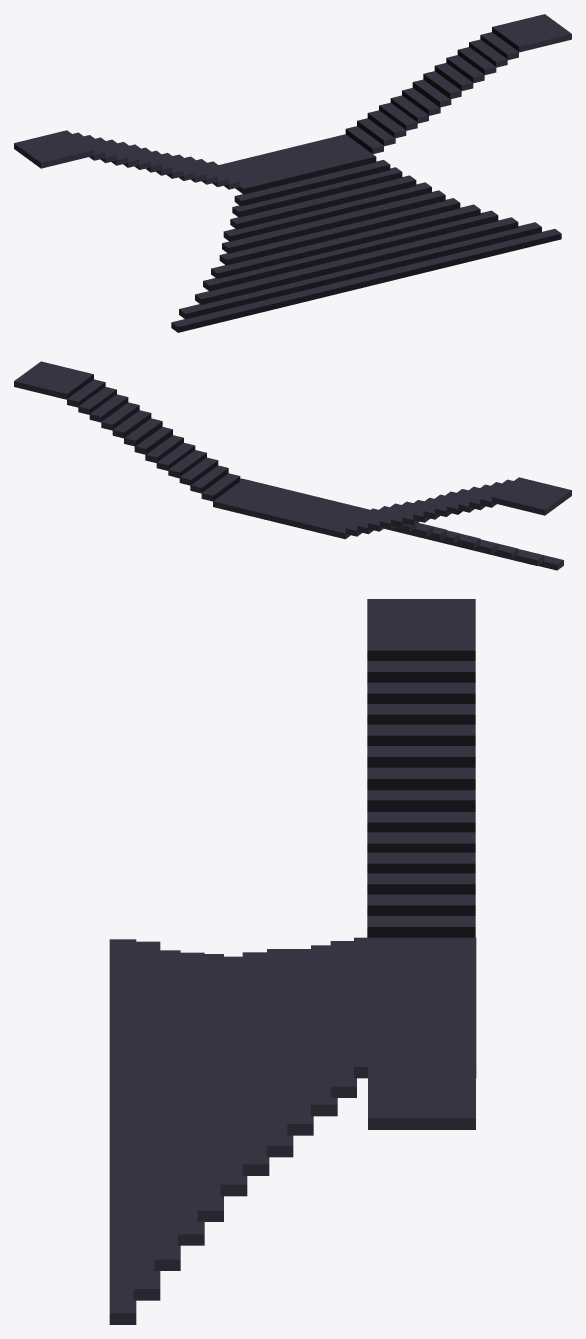
The model's file is Ballroom_staircase_3.fbx.
The picture shows the model from 3 angles, top to bottom: view 1: azimuth 30°, elevation 25°; view 2: azimuth 150°, elevation 25°; view 3: azimuth 270°, elevation 25°; orthographic projection. The views are drawn at different scales.
Parts seen in each view (by area): view 1: polySurface113; view 2: polySurface113; view 3: polySurface113.
Boxes of the visible parts, bbox=[...] form: polySurface113: bbox=[14, 14, 571, 332]; polySurface113: bbox=[14, 361, 571, 570]; polySurface113: bbox=[109, 599, 476, 1324].
Bounding box in the file's own units: 127 × 32 × 37.86.
Materials: 1 (1 with a texture image).
